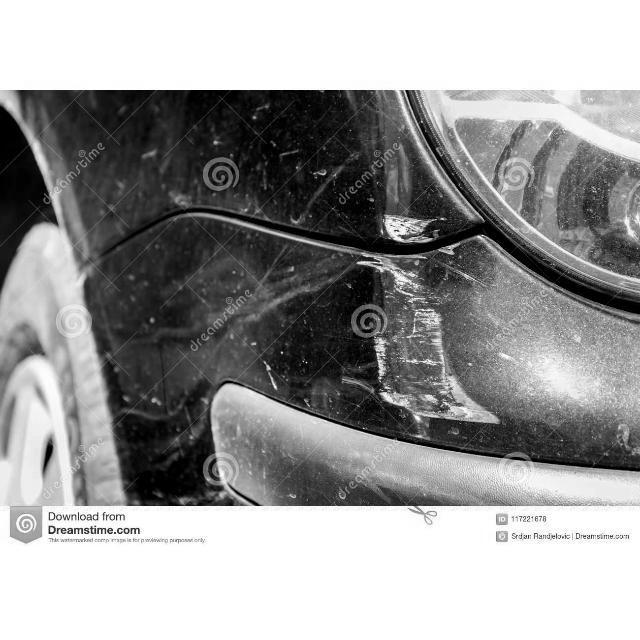front-bumper-dent: (65, 203, 640, 510)
